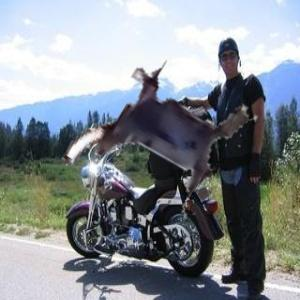drone: (71, 44, 256, 229)
